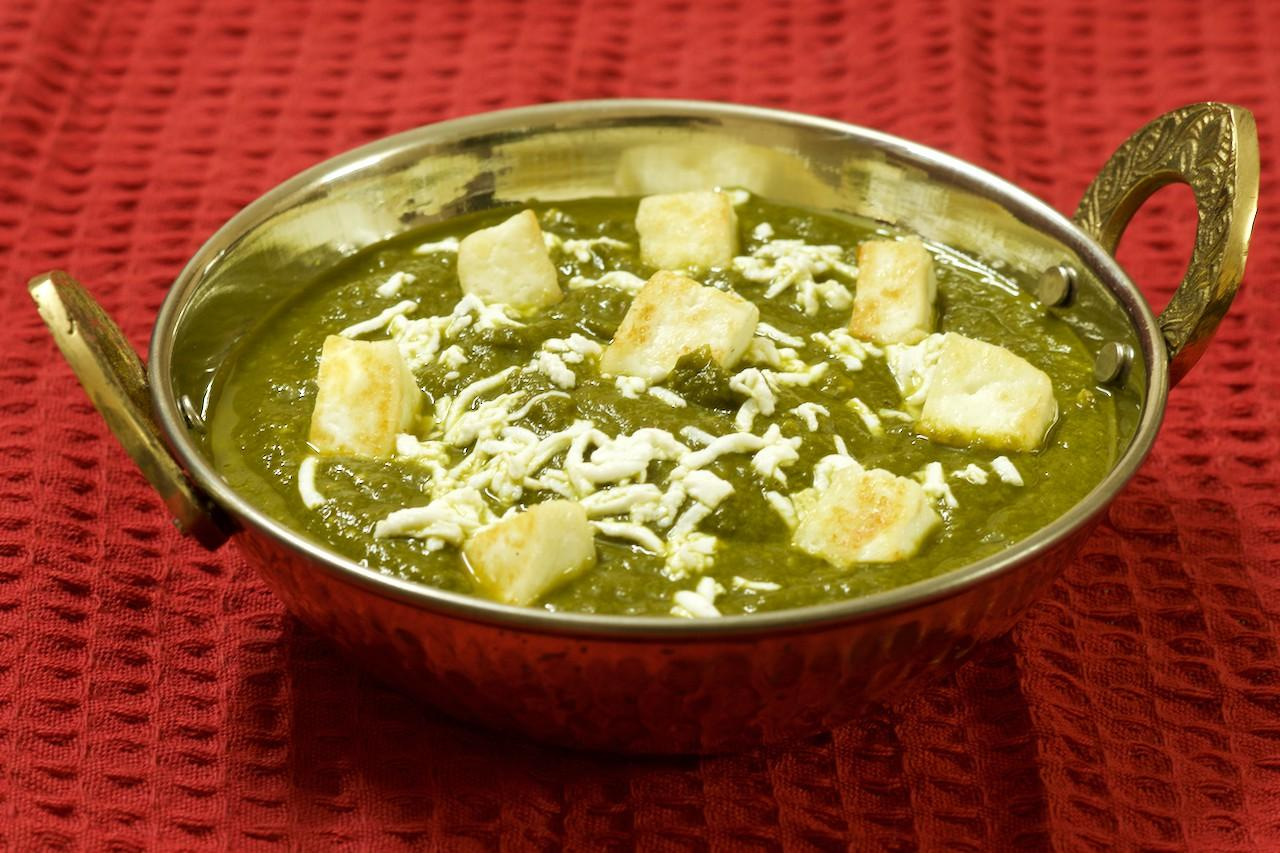PalakPaneer: (197, 182, 1118, 618)
